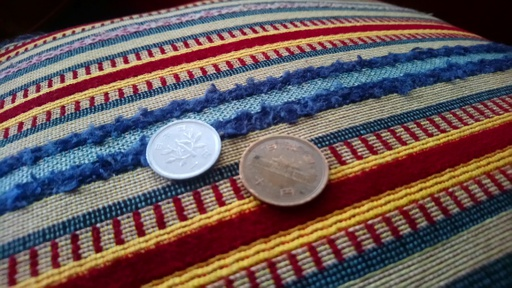10yen: (240, 136, 328, 206)
1yen: (146, 119, 220, 181)
